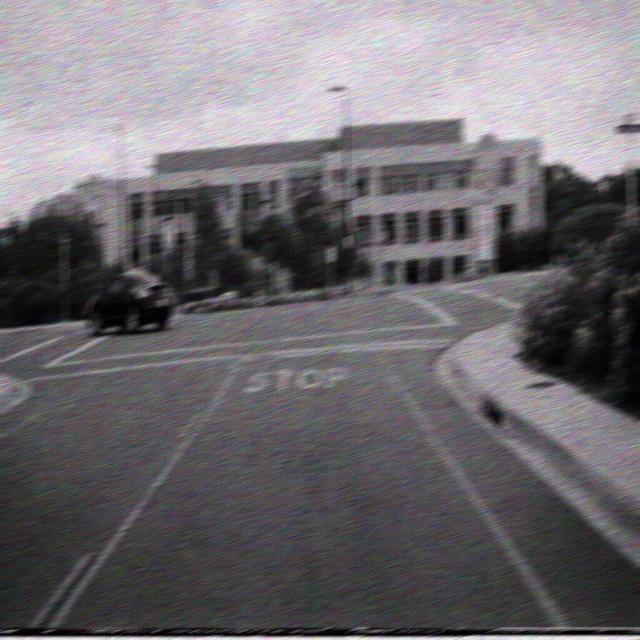stop: (473, 130, 504, 188)
